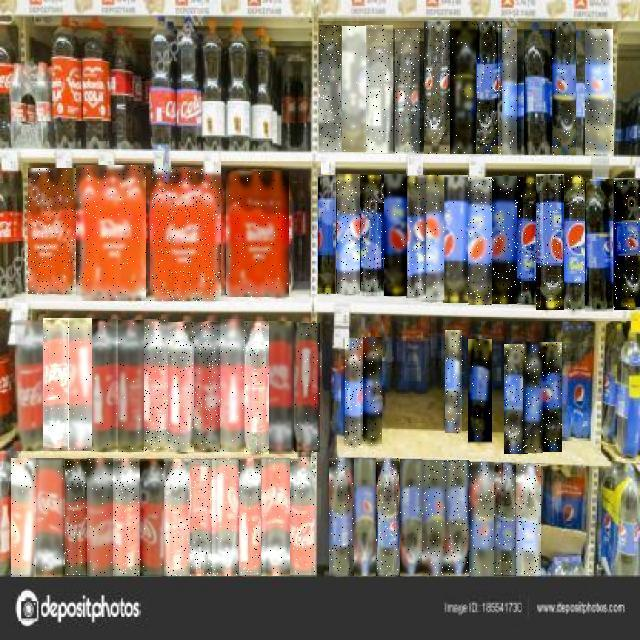Drinks: (150, 167, 221, 301), (76, 166, 146, 300), (226, 171, 289, 297), (29, 169, 77, 295), (536, 175, 564, 311), (562, 175, 590, 311), (525, 22, 553, 155), (585, 179, 613, 312), (15, 320, 43, 451), (365, 25, 393, 153), (585, 30, 613, 156), (424, 20, 450, 154), (270, 322, 296, 456), (92, 319, 118, 452), (43, 318, 69, 451), (550, 22, 576, 155), (476, 21, 502, 154), (450, 21, 476, 154), (244, 321, 270, 454), (118, 320, 144, 452), (614, 178, 640, 310), (194, 322, 220, 452), (169, 322, 195, 452), (296, 323, 322, 452), (38, 458, 66, 577), (418, 176, 444, 302), (396, 29, 422, 154), (492, 176, 517, 304), (443, 175, 468, 303), (144, 319, 168, 452), (68, 318, 92, 451), (12, 458, 38, 577), (468, 177, 492, 305), (240, 458, 266, 576), (265, 458, 291, 576), (290, 457, 316, 575), (87, 458, 113, 576), (221, 319, 244, 452), (190, 459, 216, 576), (214, 459, 240, 576), (113, 459, 139, 576), (164, 459, 190, 576), (342, 26, 366, 152), (359, 176, 384, 296), (329, 458, 354, 576), (517, 177, 540, 305), (140, 459, 165, 576), (445, 461, 470, 577), (469, 462, 494, 576), (64, 459, 88, 576), (384, 175, 407, 297), (516, 464, 541, 576), (422, 461, 446, 577), (319, 26, 341, 152), (337, 175, 360, 295), (354, 458, 377, 576), (376, 458, 399, 576), (504, 344, 528, 454), (494, 462, 517, 576), (400, 459, 422, 576), (468, 340, 492, 446), (524, 342, 546, 453), (406, 176, 426, 298), (498, 29, 517, 155), (318, 175, 336, 294), (363, 338, 382, 446), (345, 338, 363, 448), (544, 342, 562, 452), (446, 330, 464, 433)
